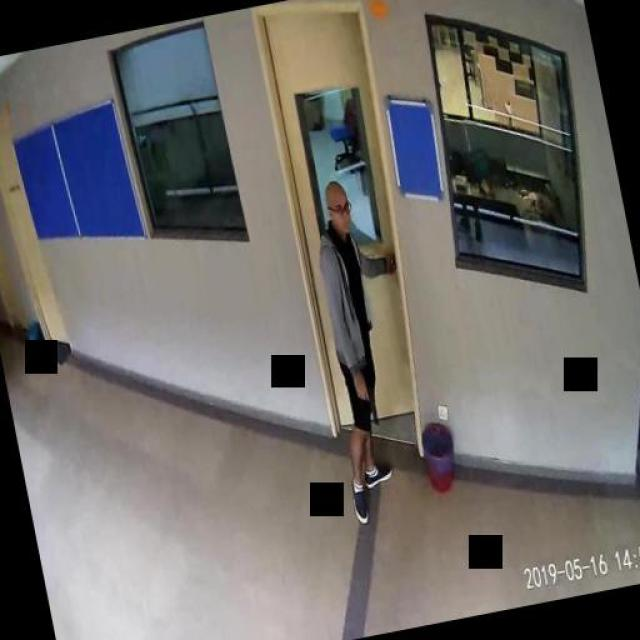gun: (354, 382, 378, 428)
